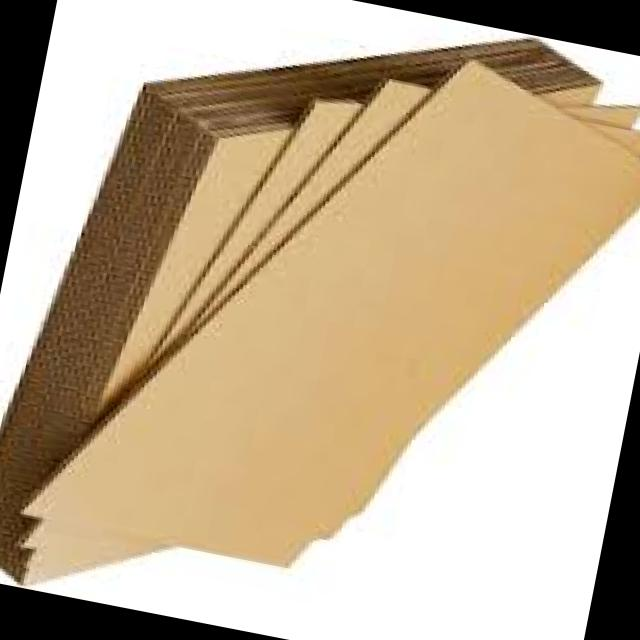cardboard: (27, 64, 639, 563)
